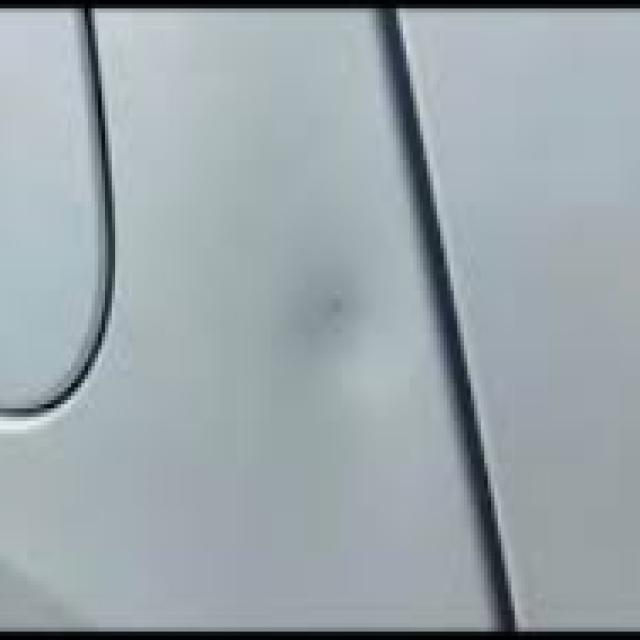dents: (288, 273, 438, 398)
